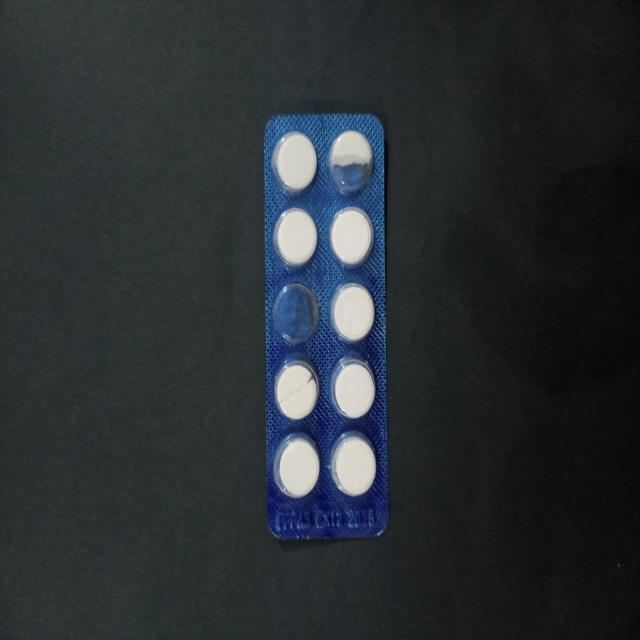defect: (328, 125, 377, 199), (271, 278, 321, 348), (271, 356, 322, 424)
